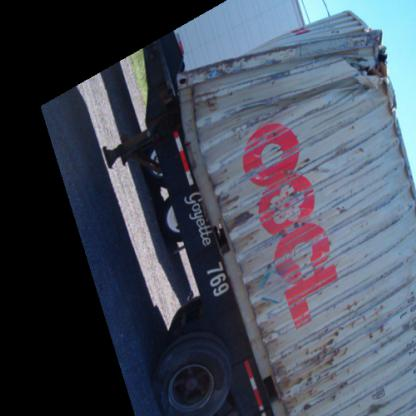Damage: (254, 126, 391, 412), (302, 18, 396, 100)
